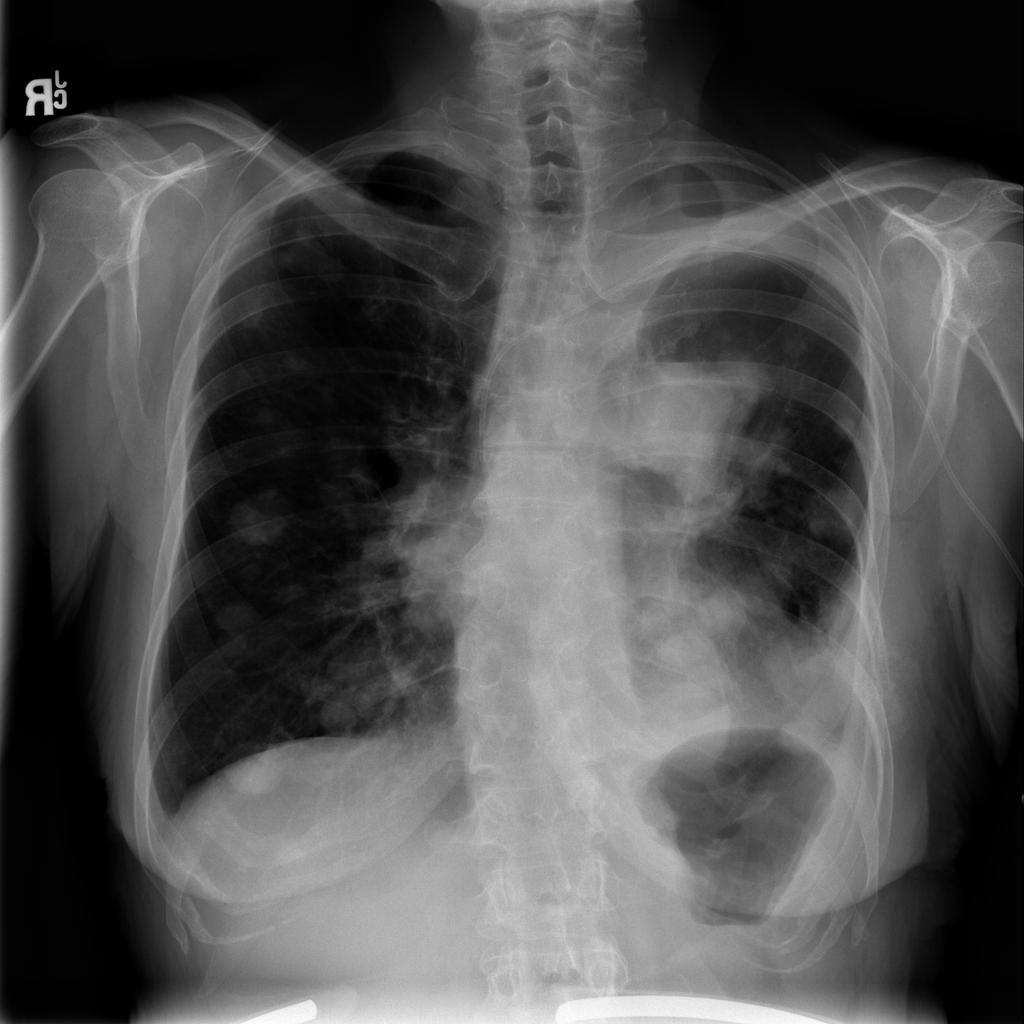nodule: (216, 478, 302, 553), (214, 735, 296, 810), (791, 477, 868, 552), (194, 592, 272, 664), (303, 679, 376, 750), (215, 282, 286, 351), (223, 390, 301, 451), (822, 402, 871, 455), (307, 246, 359, 294), (767, 322, 821, 368), (266, 338, 319, 384)
